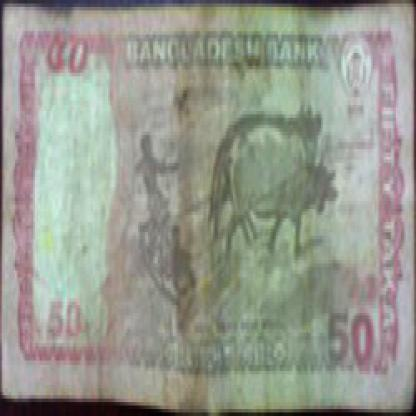Fifty taka: (316, 312, 388, 381), (40, 28, 115, 94)
